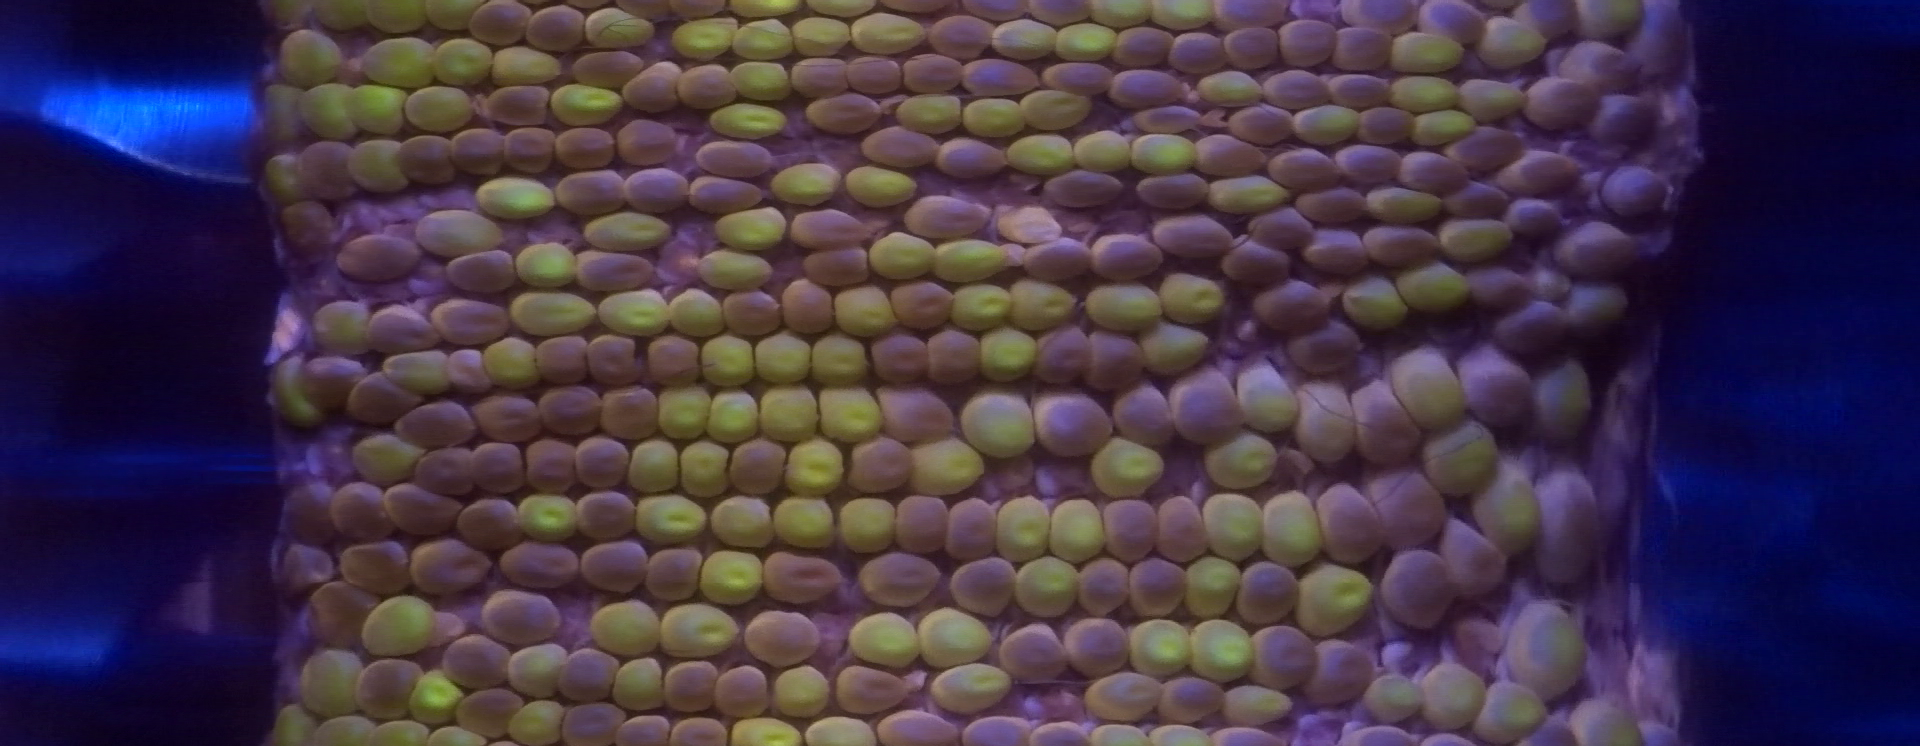fluorescent: (1505, 603, 1581, 697), (1526, 355, 1598, 451), (1418, 416, 1498, 494), (1078, 669, 1174, 731), (1556, 278, 1636, 349), (1391, 353, 1466, 428), (1473, 461, 1536, 548), (1130, 317, 1215, 379), (1258, 490, 1321, 563), (1296, 380, 1352, 461), (364, 597, 436, 659), (656, 601, 737, 657), (962, 394, 1033, 457), (1303, 563, 1369, 628), (1418, 663, 1483, 728), (911, 437, 981, 496), (507, 292, 594, 338), (1188, 619, 1249, 684), (1569, 1, 1649, 50), (921, 611, 991, 668), (1015, 555, 1078, 616), (1204, 441, 1283, 489), (782, 437, 844, 499), (591, 601, 659, 657), (1570, 692, 1638, 746), (1087, 281, 1164, 328), (1476, 681, 1545, 734), (298, 653, 361, 710), (414, 209, 504, 250), (852, 612, 920, 666), (1202, 496, 1261, 557), (1049, 499, 1106, 562), (928, 665, 1009, 709), (839, 497, 898, 557), (364, 38, 430, 91), (313, 303, 372, 361), (1182, 559, 1240, 617), (478, 174, 551, 220), (637, 499, 708, 546), (699, 385, 760, 440), (998, 495, 1049, 560), (271, 355, 318, 425), (829, 284, 895, 334), (1395, 267, 1472, 310), (280, 29, 339, 85), (929, 236, 1003, 281), (1093, 439, 1160, 488), (758, 385, 819, 436), (819, 390, 882, 440), (1157, 271, 1221, 320), (298, 83, 354, 138), (1239, 369, 1292, 428), (699, 551, 760, 601), (550, 85, 623, 126), (407, 85, 474, 130), (1021, 87, 1092, 130), (1131, 621, 1187, 676), (350, 136, 402, 195), (1343, 276, 1403, 326), (507, 647, 568, 696), (896, 89, 962, 135), (588, 212, 669, 249), (431, 37, 491, 86), (962, 96, 1029, 140), (754, 334, 811, 386), (601, 292, 669, 334), (514, 243, 579, 287), (778, 499, 835, 548), (948, 284, 1011, 328), (849, 163, 916, 205), (1367, 185, 1442, 222), (697, 250, 773, 287), (351, 439, 416, 481), (353, 82, 407, 134), (613, 661, 667, 713), (703, 334, 753, 390), (481, 338, 538, 387), (710, 103, 787, 138), (1444, 219, 1502, 266), (873, 235, 938, 277), (1008, 285, 1078, 323), (1360, 675, 1420, 719), (1228, 686, 1296, 725), (1397, 29, 1458, 72), (853, 15, 924, 51), (1210, 176, 1281, 213), (811, 339, 869, 383), (715, 499, 768, 548), (771, 666, 825, 714), (1129, 136, 1191, 176), (982, 330, 1032, 380), (661, 388, 711, 439), (682, 445, 732, 495), (408, 669, 457, 720), (1053, 23, 1119, 61), (1005, 134, 1071, 171), (516, 492, 572, 537), (671, 18, 732, 59), (1460, 78, 1521, 119), (727, 62, 792, 100), (771, 167, 840, 202), (718, 209, 786, 245), (585, 12, 656, 47), (509, 698, 564, 742), (1145, 710, 1211, 746), (672, 287, 721, 334), (633, 442, 680, 492), (1485, 23, 1547, 61), (493, 48, 561, 82), (733, 22, 789, 61), (1198, 70, 1258, 105), (1075, 129, 1128, 169), (1413, 109, 1474, 143), (795, 18, 850, 55), (733, 717, 802, 745), (1392, 76, 1452, 107), (367, 1, 425, 33), (1297, 110, 1352, 143), (1079, 722, 1150, 746), (264, 704, 309, 744), (808, 718, 874, 744), (317, 719, 372, 746), (427, 1, 480, 28), (1093, 1, 1149, 26), (369, 722, 425, 742), (318, 1, 369, 24), (1151, 1, 1210, 21), (272, 1, 309, 32), (429, 728, 489, 742)
nonfluorescent: (1536, 474, 1596, 584), (1455, 345, 1529, 426), (305, 579, 382, 657), (1364, 473, 1445, 545), (1382, 549, 1455, 628), (1354, 379, 1423, 461), (269, 537, 349, 603), (1033, 390, 1107, 461), (1439, 514, 1507, 590), (1311, 483, 1378, 561), (1169, 371, 1239, 439), (287, 477, 345, 554), (1555, 222, 1633, 279), (740, 609, 823, 661), (411, 543, 491, 597), (1062, 619, 1131, 680), (382, 483, 460, 537), (332, 235, 421, 282), (874, 387, 953, 440), (857, 557, 939, 608), (1494, 305, 1564, 364), (574, 540, 647, 597), (1283, 322, 1362, 374), (1082, 325, 1144, 390), (481, 592, 560, 642), (396, 399, 478, 447), (998, 628, 1067, 684), (1414, 1, 1500, 45), (763, 554, 842, 600), (1150, 214, 1233, 258), (331, 481, 393, 540), (1311, 641, 1367, 706), (454, 685, 525, 735), (1251, 630, 1313, 687), (1248, 288, 1329, 331), (411, 443, 474, 499), (1101, 499, 1155, 562), (1599, 168, 1665, 219), (1449, 127, 1523, 173), (1527, 72, 1589, 126), (500, 546, 580, 588), (727, 441, 785, 499), (1116, 386, 1172, 445), (1128, 561, 1187, 617), (1242, 563, 1297, 624), (475, 392, 542, 441), (369, 307, 437, 355), (1157, 495, 1205, 563), (573, 490, 637, 541), (906, 195, 984, 236), (1191, 134, 1267, 176), (1073, 559, 1131, 614), (298, 145, 358, 198), (847, 439, 907, 492), (347, 376, 418, 421), (440, 638, 507, 686), (429, 301, 503, 344), (358, 666, 422, 715), (305, 353, 362, 408), (1495, 151, 1573, 191), (891, 279, 951, 332), (945, 499, 996, 561), (696, 138, 775, 178), (573, 252, 653, 292), (835, 666, 904, 712), (807, 89, 879, 132), (1044, 170, 1123, 209), (1336, 1, 1425, 36), (340, 544, 408, 589), (457, 499, 520, 546), (953, 563, 1016, 611), (555, 170, 623, 214), (622, 61, 682, 111), (1224, 238, 1288, 284), (587, 336, 647, 385), (932, 138, 1009, 176), (863, 129, 936, 169), (1093, 236, 1163, 278), (928, 332, 982, 386), (1280, 17, 1335, 70), (1567, 40, 1631, 86), (602, 387, 658, 439), (560, 648, 615, 699), (274, 203, 331, 254), (964, 59, 1040, 96), (1245, 207, 1314, 247), (451, 125, 506, 175), (898, 492, 947, 549), (1163, 674, 1221, 722), (447, 254, 519, 292), (791, 211, 863, 249), (691, 176, 760, 216), (540, 386, 600, 431), (469, 441, 522, 492), (578, 439, 629, 491), (1038, 330, 1089, 383), (1296, 189, 1367, 227), (1108, 69, 1178, 107), (804, 247, 874, 285), (1111, 24, 1171, 69), (781, 284, 834, 334), (399, 134, 456, 180), (1269, 147, 1331, 189), (666, 661, 716, 713), (714, 670, 767, 719), (931, 16, 991, 59), (527, 439, 573, 494), (1466, 268, 1527, 310), (1221, 26, 1280, 69), (647, 551, 699, 599), (536, 336, 590, 382), (471, 2, 531, 44), (484, 83, 547, 122), (1027, 243, 1091, 282), (1327, 28, 1389, 69), (1226, 105, 1291, 143), (874, 336, 927, 382), (528, 6, 582, 51), (1362, 230, 1438, 262), (1307, 229, 1364, 271), (555, 132, 615, 171), (1441, 181, 1510, 216), (721, 293, 778, 334), (650, 338, 699, 386), (880, 714, 960, 744), (1138, 174, 1205, 208), (1401, 152, 1460, 191), (1598, 96, 1644, 145), (564, 706, 624, 744), (566, 50, 647, 78), (617, 122, 673, 163), (1335, 720, 1423, 746), (628, 170, 687, 208), (846, 54, 900, 94), (447, 348, 493, 394), (1264, 73, 1329, 107), (1044, 62, 1112, 94), (677, 66, 731, 105), (504, 129, 553, 171), (1502, 198, 1558, 236), (1340, 145, 1398, 180), (1164, 33, 1221, 69), (1213, 2, 1284, 31), (1325, 73, 1387, 105), (793, 56, 845, 93), (1358, 109, 1412, 143), (958, 1, 1032, 26), (1125, 109, 1199, 134), (965, 715, 1031, 742), (904, 58, 959, 89), (1038, 1, 1097, 31), (673, 717, 729, 744), (620, 717, 669, 744), (1031, 722, 1091, 742)
